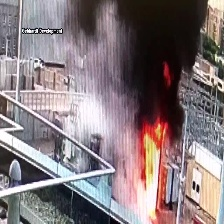fire: (137, 121, 166, 218)
smoke: (120, 1, 211, 127)
